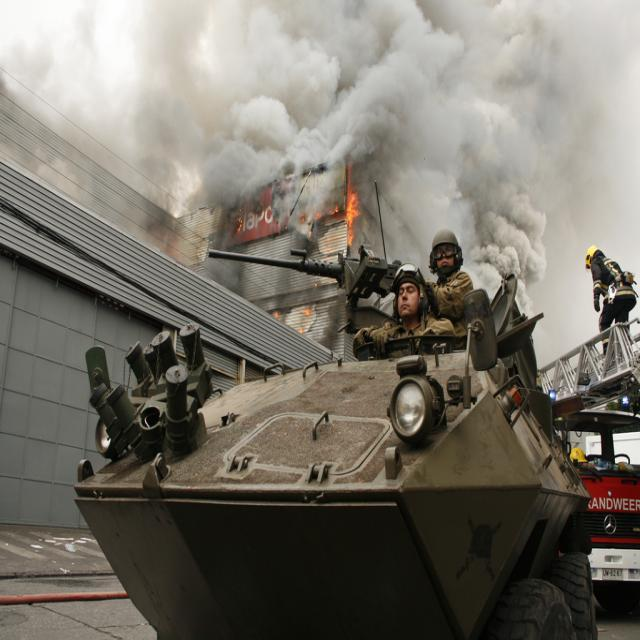Fire: (332, 178, 361, 242)
Smoke: (378, 30, 598, 209), (149, 9, 329, 130)
